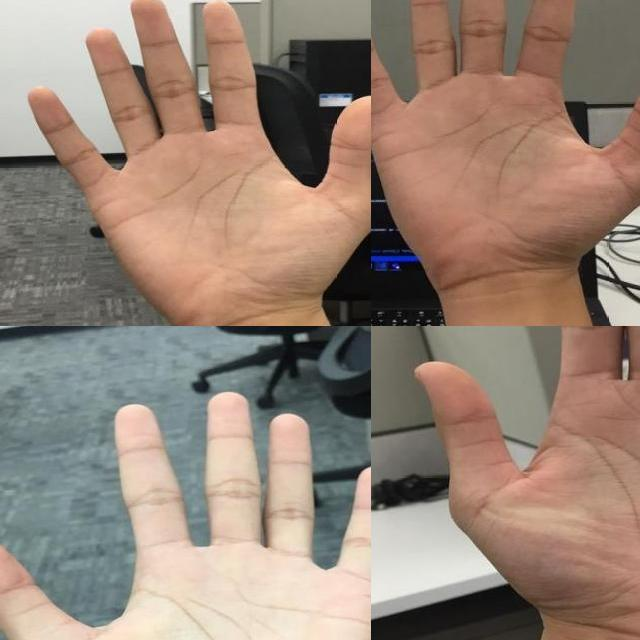hand: (22, 0, 371, 326), (0, 384, 371, 640), (371, 0, 640, 290), (399, 326, 640, 640)
